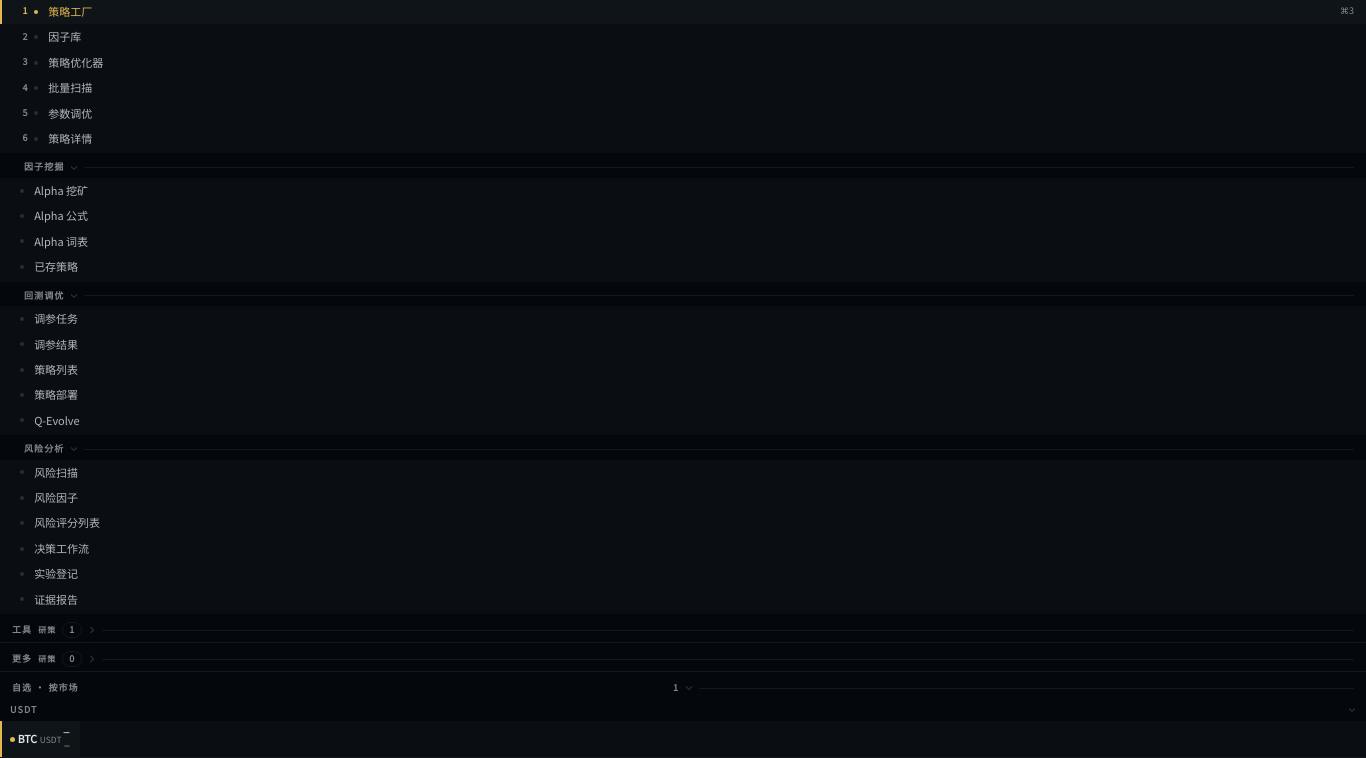
Test: Sidebar 场景链式导航 › 整区头可折叠:点击自选区标题后分组体隐藏
The image size is (1366, 758).
(page scrolled)
Click the button "自选 · 按市场 1" at (683, 685), box 0,672 -> 1365,699
(page scrolled)
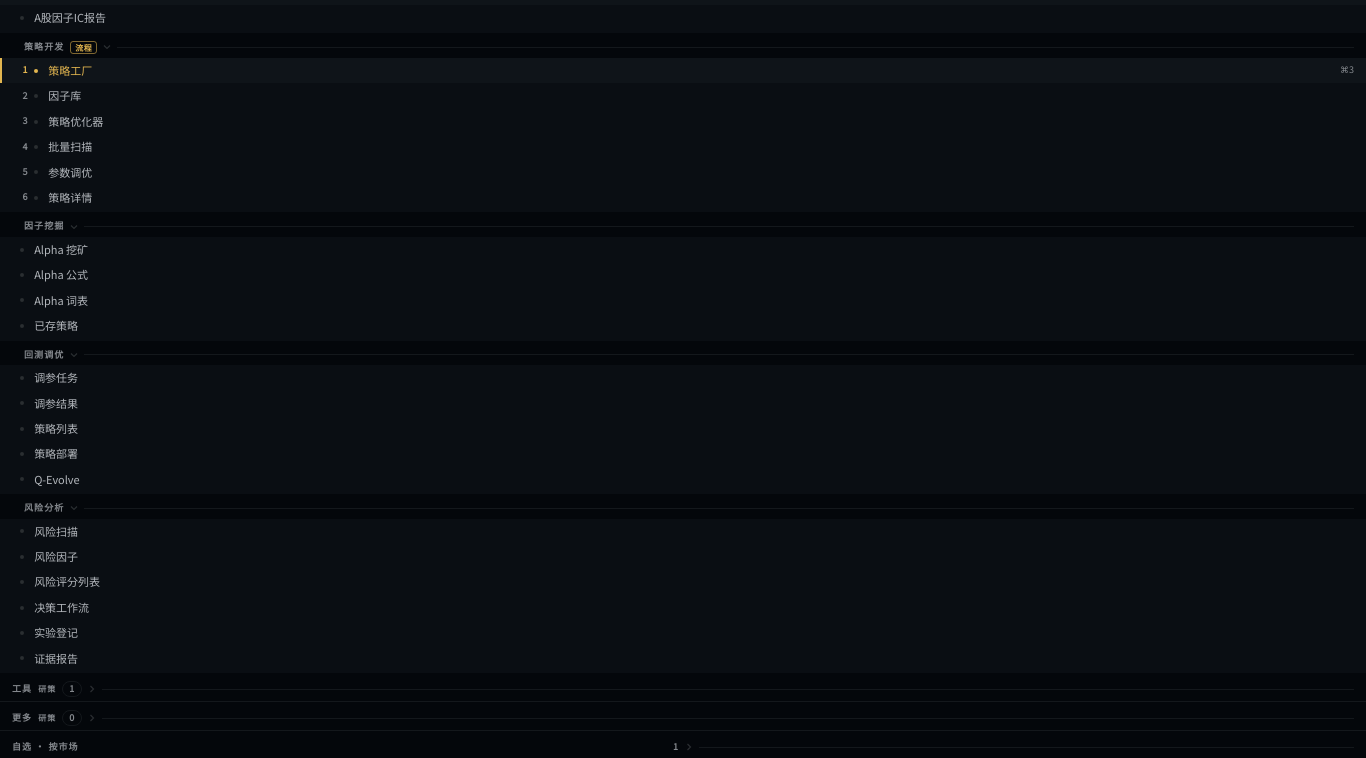
Now the button "USDT" is gone
